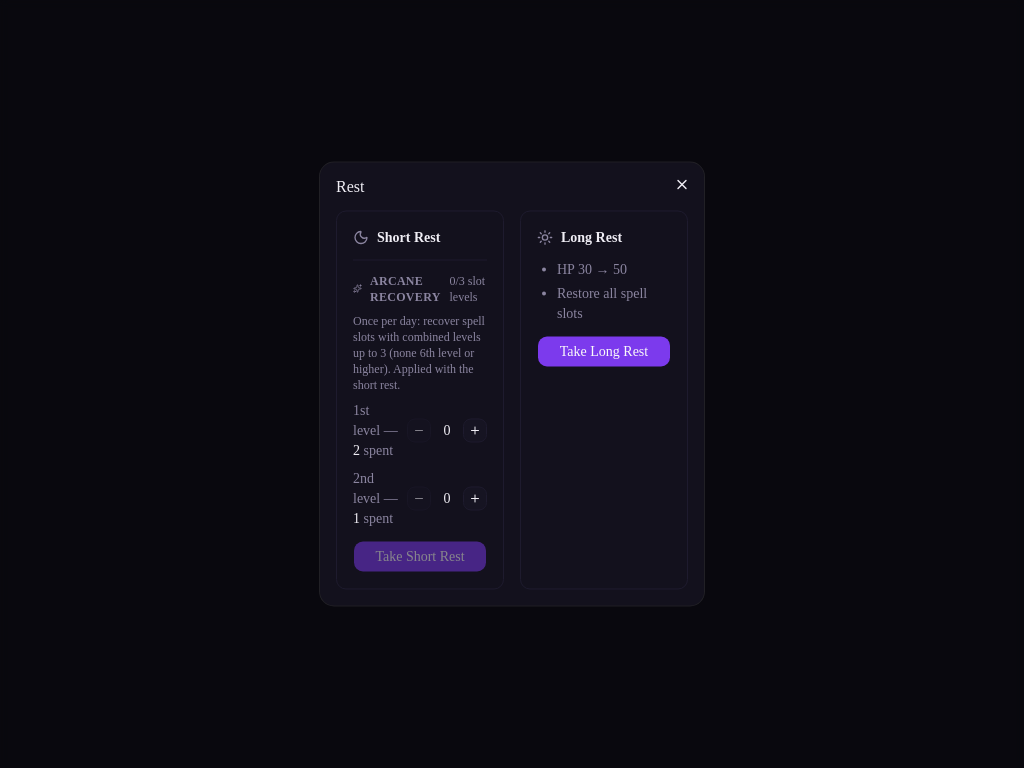
Test: RestDialog — Arcane Recovery section › enables Take Short Rest via picks even when canShortRest is false
Expected: the button "Take Short Rest" is disabled, 353,540 -> 487,572
Click the button named "Recover one more 1st-level slot" at {"x": 475, "y": 430}, box 463,418 -> 487,442
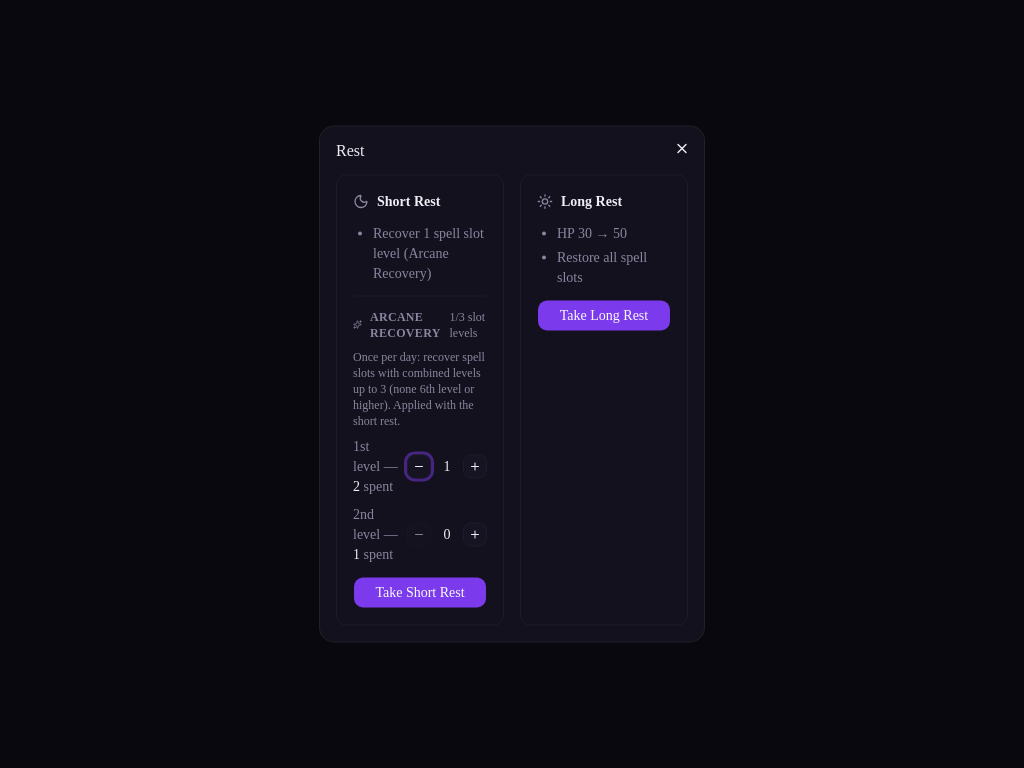
Expected: the button "Take Short Rest" is enabled, 353,576 -> 487,608
